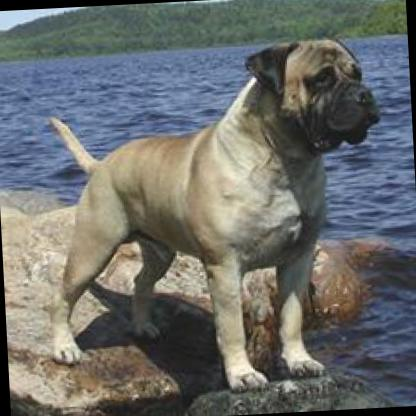bull_mastiff: (28, 28, 395, 400)
